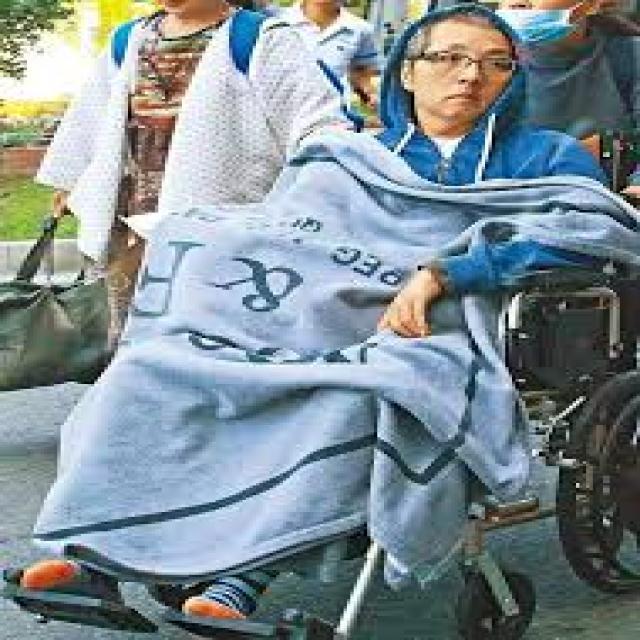wheelchairs: (10, 215, 637, 638)
